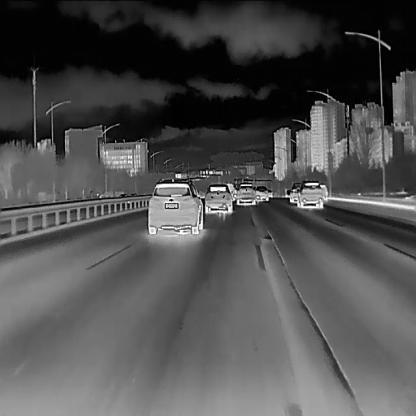car: (147, 178, 203, 234), (205, 182, 232, 212), (297, 180, 324, 209), (237, 182, 255, 205), (287, 184, 302, 203), (255, 185, 268, 199), (268, 189, 272, 197)
